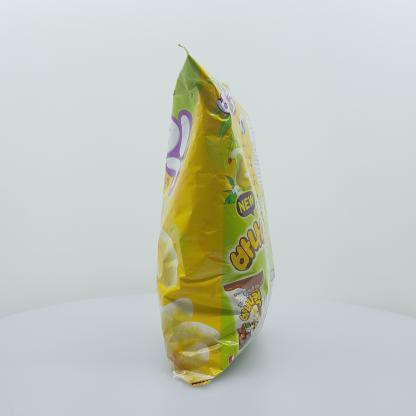Plastic Packaging: (140, 31, 284, 399)
